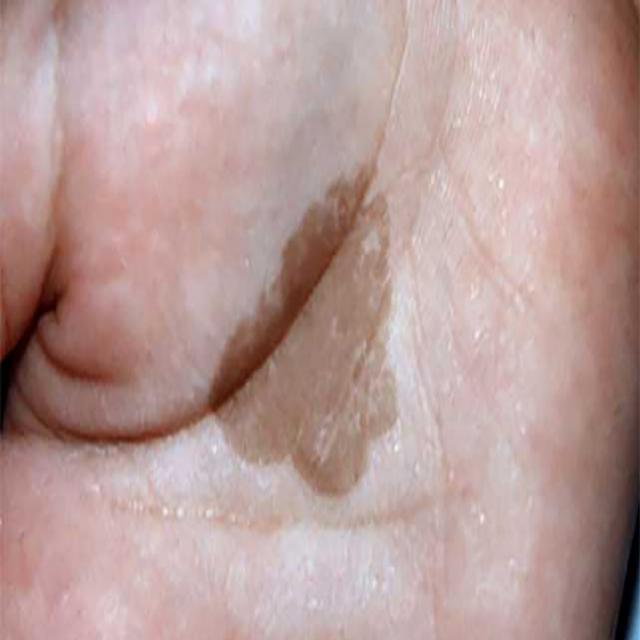tinea: (175, 112, 521, 554)
